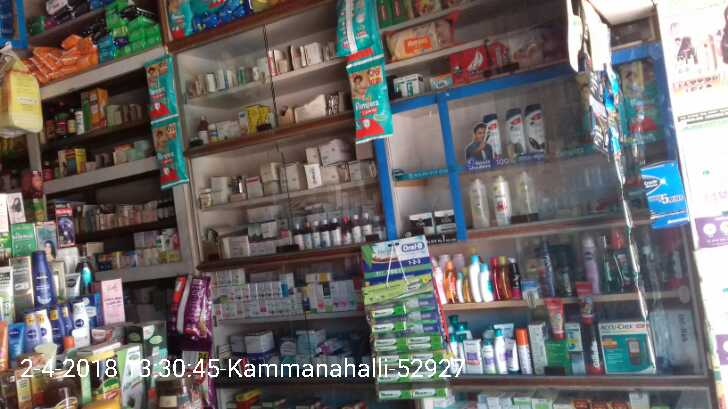oralcare: (367, 231, 443, 401)
